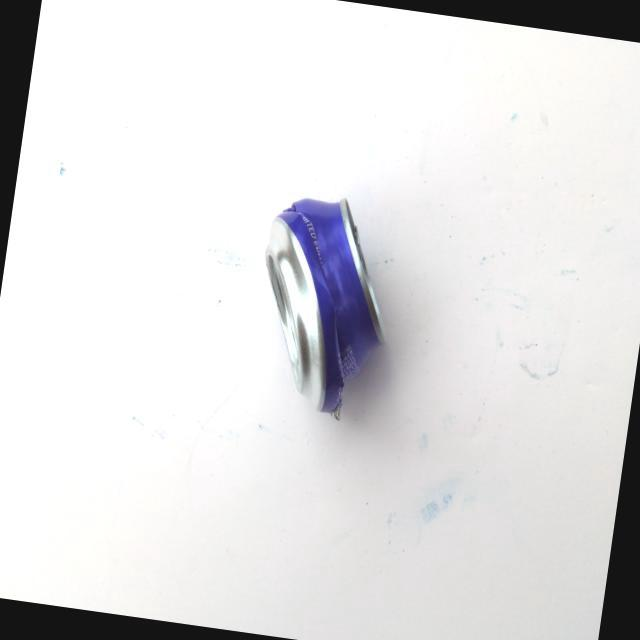metal: (236, 150, 412, 433)
